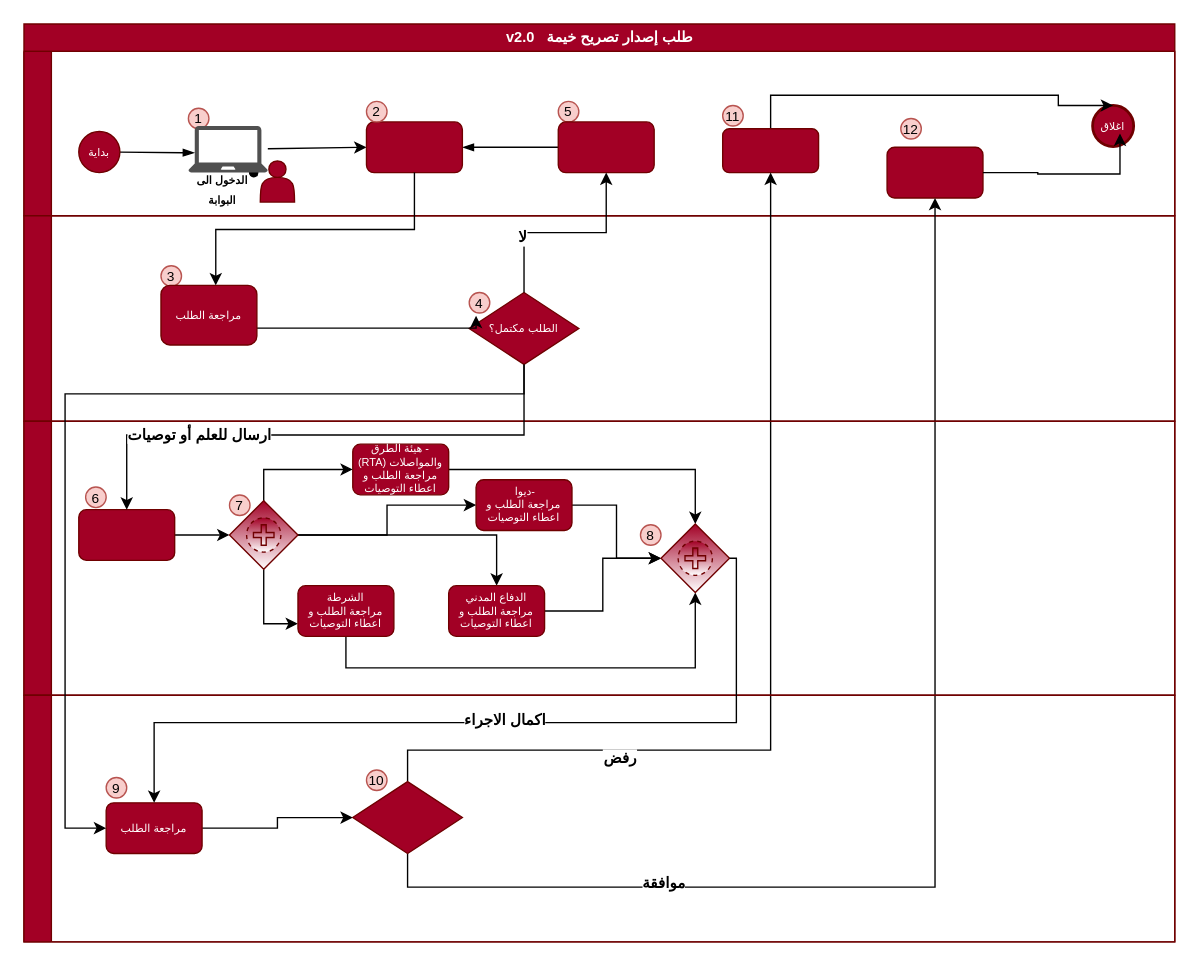
The diagram is 1199 pixels wide and 966 high, and some of its shapes have lost their labels. Each missing label, with the box of its shape:
ارسال الطلب الى جهات خارجية: (77, 508, 175, 560)
ارسال رسالة إعتذار: (721, 127, 819, 173)
ارسال رسالة موافقة: (886, 146, 983, 198)
استكمال البيانات المطلوبة و اعادة الارسال: (557, 121, 654, 173)
الجهات الخارجية: (23, 420, 1175, 695)
العميل: (23, 50, 1175, 216)
المنسق: (23, 214, 1175, 421)
تعبئة وتقديم نموذج الطلب: (365, 121, 462, 173)
رئيس القسم: (23, 694, 1175, 942)
موافقة؟: (351, 780, 462, 854)
